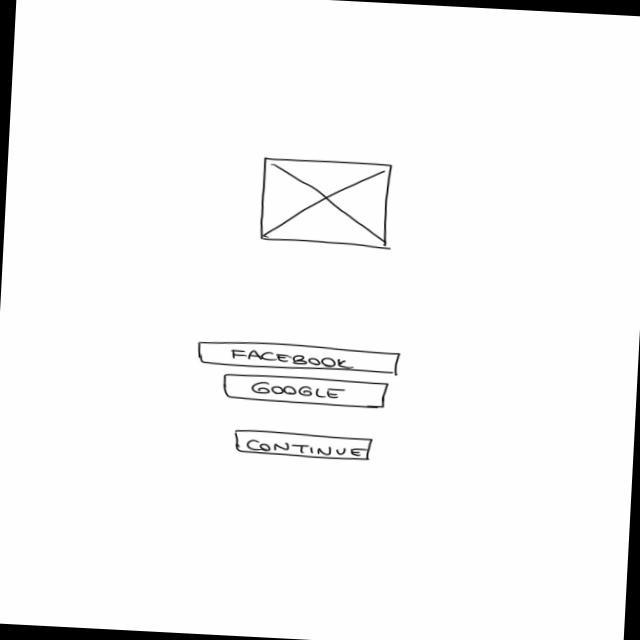button: (196, 339, 405, 379), (222, 374, 393, 411), (232, 429, 376, 464)
image: (259, 156, 396, 252)
